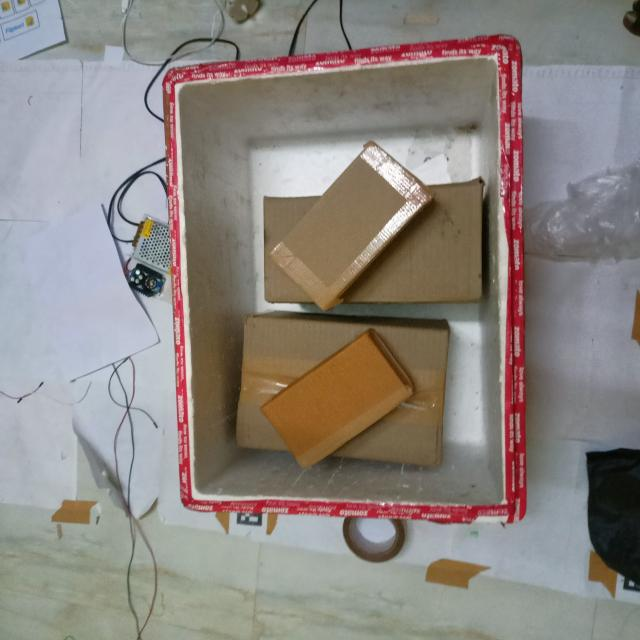box: (263, 137, 432, 312), (258, 332, 413, 475)
